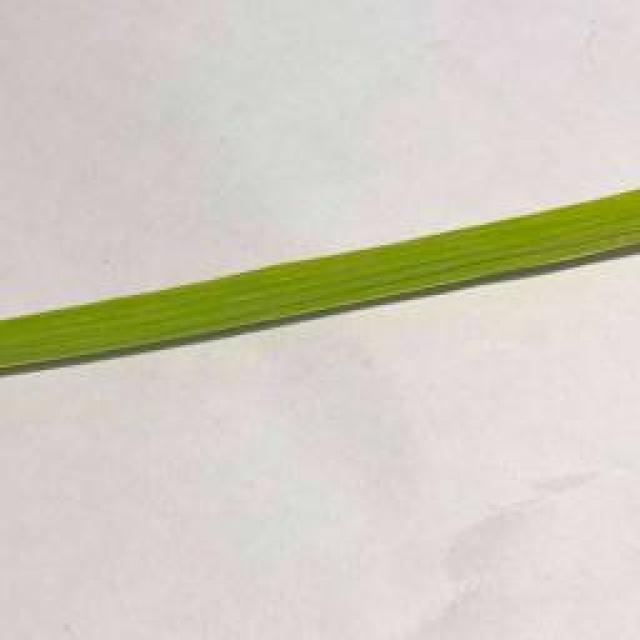Healthy-Plant: (0, 185, 640, 376)
